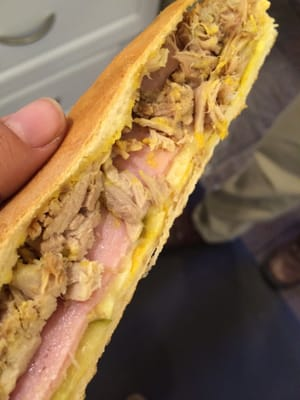soup: (0, 1, 271, 394)
